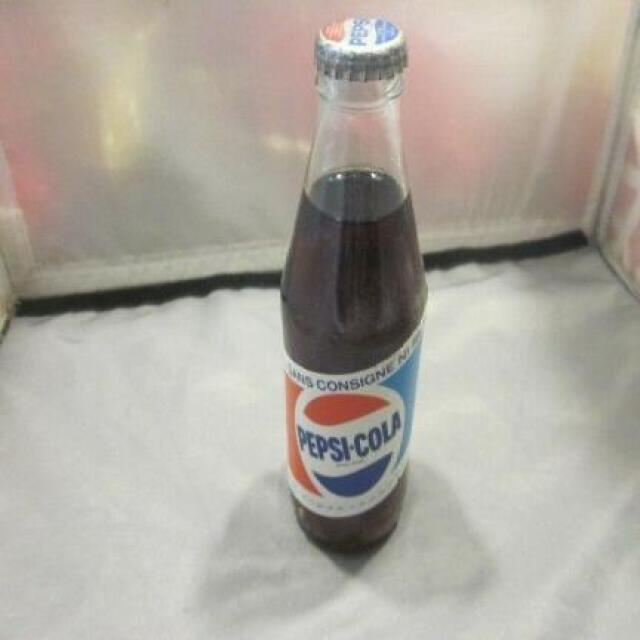high: (281, 18, 425, 548)
